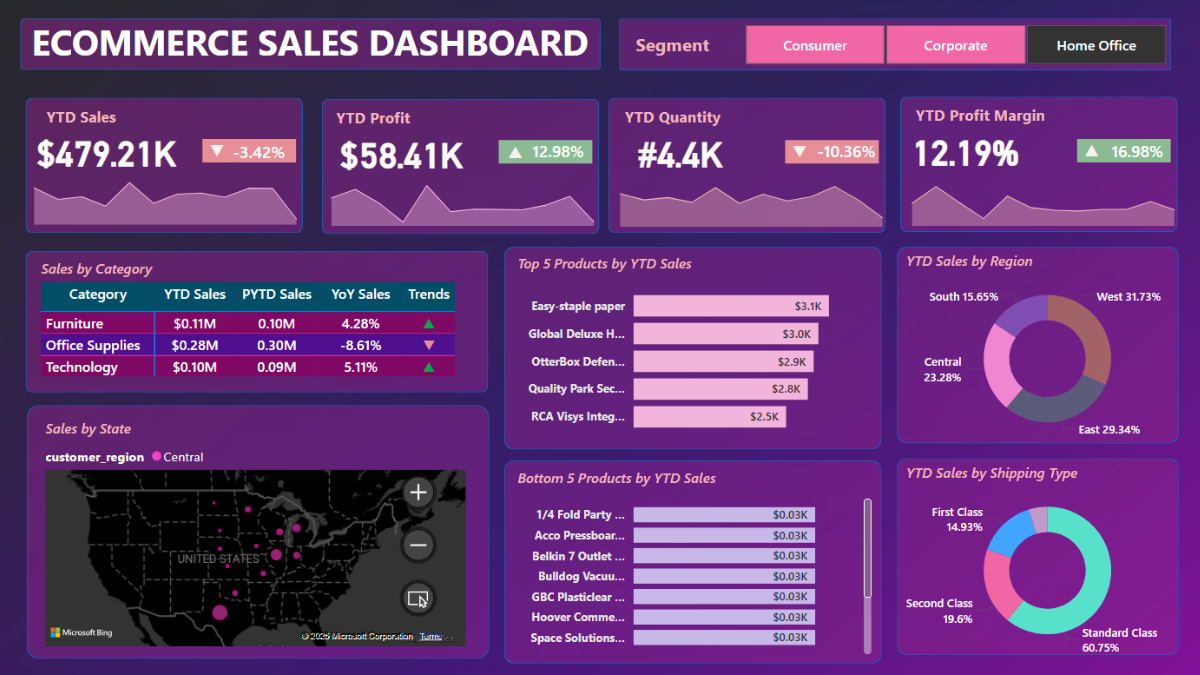

This screenshot's page, from the dashboard's own definition file:
{"tool":"powerbi","page":{"name":"Page 1","canvas":[1280,720],"ordinal":0},"visuals":[{"type":"shape","box":[24.4,19.8,615.1,54.7],"z":0},{"type":"shape","box":[29.4,103.1,294.5,143.6],"z":1000},{"type":"card","fields":{"Values":["ecommerce_data.YTD Sales"]},"box":[24.5,135,182.8,50.3],"z":2000},{"type":"areaChart","fields":{"Category":["Calendar.Date.Variation.Date Hierarchy.Month"],"Y":["Sum(ecommerce_data.sales_per_order)"]},"box":[24.5,179.1,308,63.8],"z":3000},{"type":"shape","box":[217.2,147.2,99.4,24.5],"z":4000},{"type":"card","fields":{"Values":["ecommerce_data.YoY Sales"]},"box":[227,137.4,101.8,50.3],"z":5000},{"type":"card","fields":{"Values":["ecommerce_data.Sales Icon"]},"box":[214.7,136,35.6,50.3],"z":6000},{"type":"shape","box":[343.5,104.6,294.5,143.6],"z":7000},{"type":"card","fields":{"Values":["ecommerce_data.YTD Profit"]},"box":[336.2,136.2,182.5,50],"z":8000},{"type":"areaChart","fields":{"Category":["Calendar.Date.Variation.Date Hierarchy.Month"],"Y":["Sum(ecommerce_data.profit_per_order)"]},"box":[338.6,180.7,308,63.8],"z":9000},{"type":"shape","box":[531.3,148.8,99.4,24.5],"z":10000},{"type":"card","fields":{"Values":["ecommerce_data.YoY Profit"]},"box":[558.8,146.2,71.2,32.5],"z":11000},{"type":"card","fields":{"Values":["ecommerce_data.Profit Icon"]},"box":[531.1,147.9,35.7,28.6],"z":12000},{"type":"textbox","box":[363.1,109.2,139.9,29.4],"z":13000},{"type":"textbox","box":[30.7,13.5,609.8,66.3],"z":14000},{"type":"textbox","box":[46.6,106.7,99.4,39.3],"z":15000},{"type":"textbox","box":[354.5,108,108,39.3],"z":16000},{"type":"shape","box":[647.2,103.8,294.5,143.6],"z":17000},{"type":"card","fields":{"Values":["ecommerce_data.YTD Concateneted Qty"]},"box":[632.6,135.4,182.8,50.3],"z":18000},{"type":"shape","box":[835,147.9,99.4,24.5],"z":19000},{"type":"card","fields":{"Values":["ecommerce_data.YoY Qty"]},"box":[854.7,140.3,88.3,44.2],"z":20000},{"type":"card","fields":{"Values":["ecommerce_data.Qty Icon"]},"box":[832.5,136.7,35.6,50.3],"z":21000},{"type":"textbox","box":[659.6,107.2,130.1,39.3],"z":22000},{"type":"areaChart","fields":{"Category":["Calendar.Date.Variation.Date Hierarchy.Month"],"Y":["Sum(ecommerce_data.order_quantity)"]},"box":[644.9,182.1,308,63.8],"z":23000},{"type":"shape","box":[956,102.5,294.5,143.6],"z":24000},{"type":"card","fields":{"Values":["ecommerce_data.YTD Profit Margin"]},"box":[935,133.8,182.5,51.2],"z":25000},{"type":"shape","box":[1143.7,146.7,99.4,24.5],"z":26000},{"type":"card","fields":{"Values":["ecommerce_data.YoY Profit Margin"]},"box":[1163,140,89,44],"z":27000},{"type":"card","fields":{"Values":["ecommerce_data.Profit Margin Icon"]},"box":[1141.3,135.4,35.6,50.3],"z":28000},{"type":"textbox","box":[967.8,105.6,156.7,40],"z":29000},{"type":"areaChart","fields":{"Category":["Calendar.Date.Variation.Date Hierarchy.Month"],"Y":["ecommerce_data.Profit Margin"]},"box":[953.6,180.8,308,63.8],"z":30000},{"type":"shape","box":[30,265,490,150],"z":31000},{"type":"pivotTable","title":"Sales by Category","fields":{"Rows":["ecommerce_data.category_name"],"Values":["ecommerce_data.YTD Sales","ecommerce_data.PYTD Sales","ecommerce_data.YoY Sales","ecommerce_data.Sales Icon"]},"box":[41.2,273.8,463.8,130],"z":32000},{"type":"shape","box":[31.2,428.8,490,268.8],"z":33000},{"type":"map","title":"Sales by State","fields":{"Y":["us_state_long_lat_codes.latitude"],"X":["us_state_long_lat_codes.longitude"],"Size":["ecommerce_data.YTD Sales"],"Series":["ecommerce_data.customer_region"]},"box":[46.2,442.5,455,246.2],"z":34000},{"type":"shape","box":[537.2,261.2,400,215],"z":35000},{"type":"shape","box":[537.1,487.5,400,215],"z":36000},{"type":"barChart","title":"Top 5 Products by YTD Sales","fields":{"Category":["ecommerce_data.product_name"],"Y":["ecommerce_data.YTD Sales"]},"box":[546,267.5,385,202.5],"z":37000},{"type":"barChart","title":"Bottom 5 Products by YTD Sales","fields":{"Category":["ecommerce_data.product_name"],"Y":["ecommerce_data.YTD Sales"]},"box":[545.8,495,385,202.5],"z":38000},{"type":"shape","box":[952.5,261.2,298.8,208.8],"z":38001},{"type":"shape","box":[952.5,485,298.8,208.8],"z":38002},{"type":"donutChart","title":"YTD Sales by Region","fields":{"Category":["ecommerce_data.customer_region"],"Y":["ecommerce_data.YTD Sales"]},"box":[957.5,265,310,208.8],"z":38003},{"type":"donutChart","title":"YTD Sales by Shipping Type","fields":{"Y":["ecommerce_data.YTD Sales"],"Category":["ecommerce_data.shipping_type"]},"box":[957.5,490,310,208.8],"z":38004},{"type":"shape","box":[658.8,20,585,55],"z":38005},{"type":"slicer","fields":{"Values":["ecommerce_data.customer_segment"]},"box":[766.2,20,495,55],"z":38006},{"type":"textbox","box":[671.2,30,107.5,40],"z":38007}]}

Visuals, with their boxes in screenshot pixels (x1, y1, x2, y2), scaled from the page's 1280x720 canvas onto the 1200x675 screenshot:
shape: x1=23, y1=19, x2=600, y2=70
shape: x1=28, y1=97, x2=304, y2=231
card - ecommerce_data.YTD Sales: x1=23, y1=127, x2=194, y2=174
areaChart - Calendar.Date.Variation.Date Hierarchy.Month x Sum(ecommerce_data.sales_per_order): x1=23, y1=168, x2=312, y2=228
shape: x1=204, y1=138, x2=297, y2=161
card - ecommerce_data.YoY Sales: x1=213, y1=129, x2=308, y2=176
card - ecommerce_data.Sales Icon: x1=201, y1=128, x2=235, y2=175
shape: x1=322, y1=98, x2=598, y2=233
card - ecommerce_data.YTD Profit: x1=315, y1=128, x2=486, y2=175
areaChart - Calendar.Date.Variation.Date Hierarchy.Month x Sum(ecommerce_data.profit_per_order): x1=317, y1=169, x2=606, y2=229
shape: x1=498, y1=140, x2=591, y2=162
card - ecommerce_data.YoY Profit: x1=524, y1=137, x2=591, y2=168
card - ecommerce_data.Profit Icon: x1=498, y1=139, x2=531, y2=165
textbox: x1=340, y1=102, x2=472, y2=130
textbox: x1=29, y1=13, x2=600, y2=75
textbox: x1=44, y1=100, x2=137, y2=137
textbox: x1=332, y1=101, x2=434, y2=138
shape: x1=607, y1=97, x2=883, y2=232
card - ecommerce_data.YTD Concateneted Qty: x1=593, y1=127, x2=764, y2=174
shape: x1=783, y1=139, x2=876, y2=162
card - ecommerce_data.YoY Qty: x1=801, y1=132, x2=884, y2=173
card - ecommerce_data.Qty Icon: x1=780, y1=128, x2=814, y2=175
textbox: x1=618, y1=100, x2=740, y2=137
areaChart - Calendar.Date.Variation.Date Hierarchy.Month x Sum(ecommerce_data.order_quantity): x1=605, y1=171, x2=893, y2=231
shape: x1=896, y1=96, x2=1172, y2=231
card - ecommerce_data.YTD Profit Margin: x1=877, y1=125, x2=1048, y2=173
shape: x1=1072, y1=138, x2=1165, y2=160
card - ecommerce_data.YoY Profit Margin: x1=1090, y1=131, x2=1174, y2=172
card - ecommerce_data.Profit Margin Icon: x1=1070, y1=127, x2=1103, y2=174
textbox: x1=907, y1=99, x2=1054, y2=136
areaChart - Calendar.Date.Variation.Date Hierarchy.Month x ecommerce_data.Profit Margin: x1=894, y1=170, x2=1183, y2=229
shape: x1=28, y1=248, x2=488, y2=389
"Sales by Category" pivotTable: x1=39, y1=257, x2=473, y2=379
shape: x1=29, y1=402, x2=489, y2=654
"Sales by State" map: x1=43, y1=415, x2=470, y2=646
shape: x1=504, y1=245, x2=879, y2=446
shape: x1=504, y1=457, x2=879, y2=659
"Top 5 Products by YTD Sales" barChart: x1=512, y1=251, x2=873, y2=441
"Bottom 5 Products by YTD Sales" barChart: x1=512, y1=464, x2=873, y2=654
shape: x1=893, y1=245, x2=1173, y2=441
shape: x1=893, y1=455, x2=1173, y2=650
"YTD Sales by Region" donutChart: x1=898, y1=248, x2=1188, y2=444
"YTD Sales by Shipping Type" donutChart: x1=898, y1=459, x2=1188, y2=655
shape: x1=618, y1=19, x2=1166, y2=70
slicer - ecommerce_data.customer_segment: x1=718, y1=19, x2=1182, y2=70
textbox: x1=629, y1=28, x2=730, y2=66
